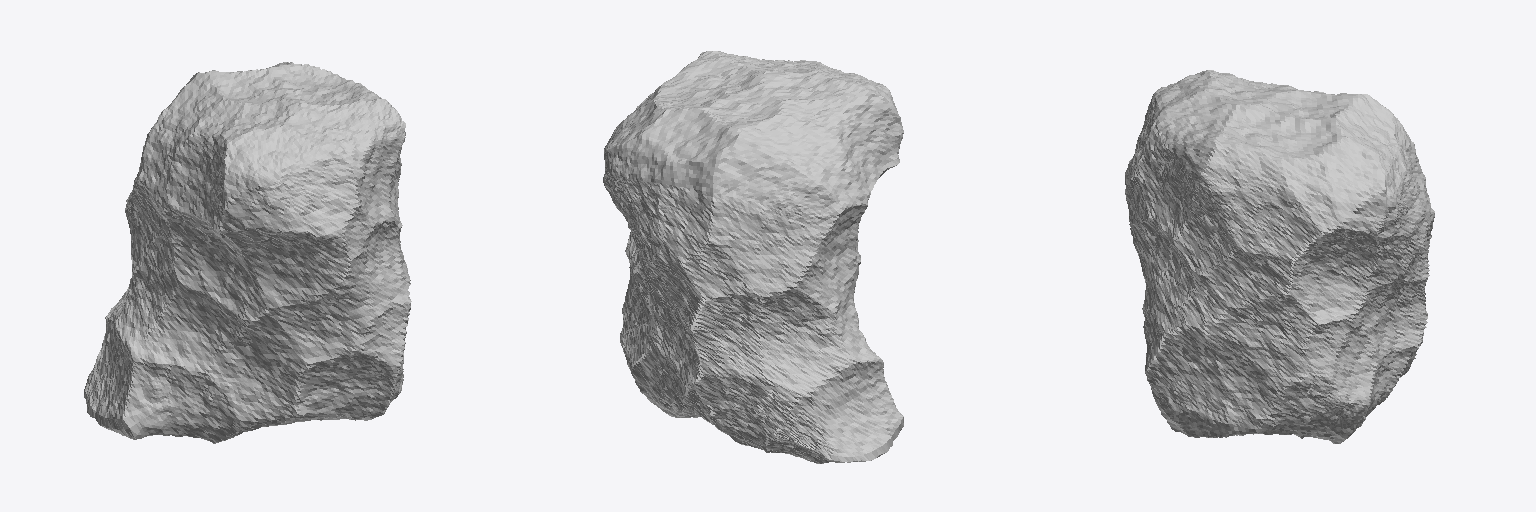
The model's file is rock2.obj.
3 renders of one model, left to right at view 1: azimuth 30°, elevation 25°; view 2: azimuth 150°, elevation 25°; view 3: azimuth 270°, elevation 25°, orthographic.
Parts seen in each view (by area): view 1: rock.009; view 2: rock.009; view 3: rock.009.
Part boxes in pixels (x1,y1,x2,y2): rock.009: (84, 62, 411, 443); rock.009: (603, 51, 903, 463); rock.009: (1125, 70, 1434, 443).
Bounding box in the file's own units: 2.78 × 3.13 × 2.7.